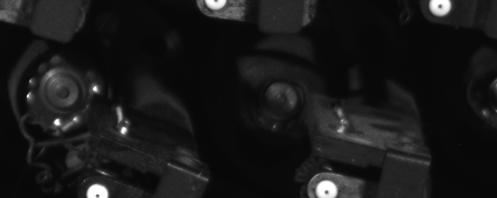fiber: (425, 1, 457, 22), (81, 179, 116, 198), (313, 177, 342, 198), (200, 1, 232, 11)
